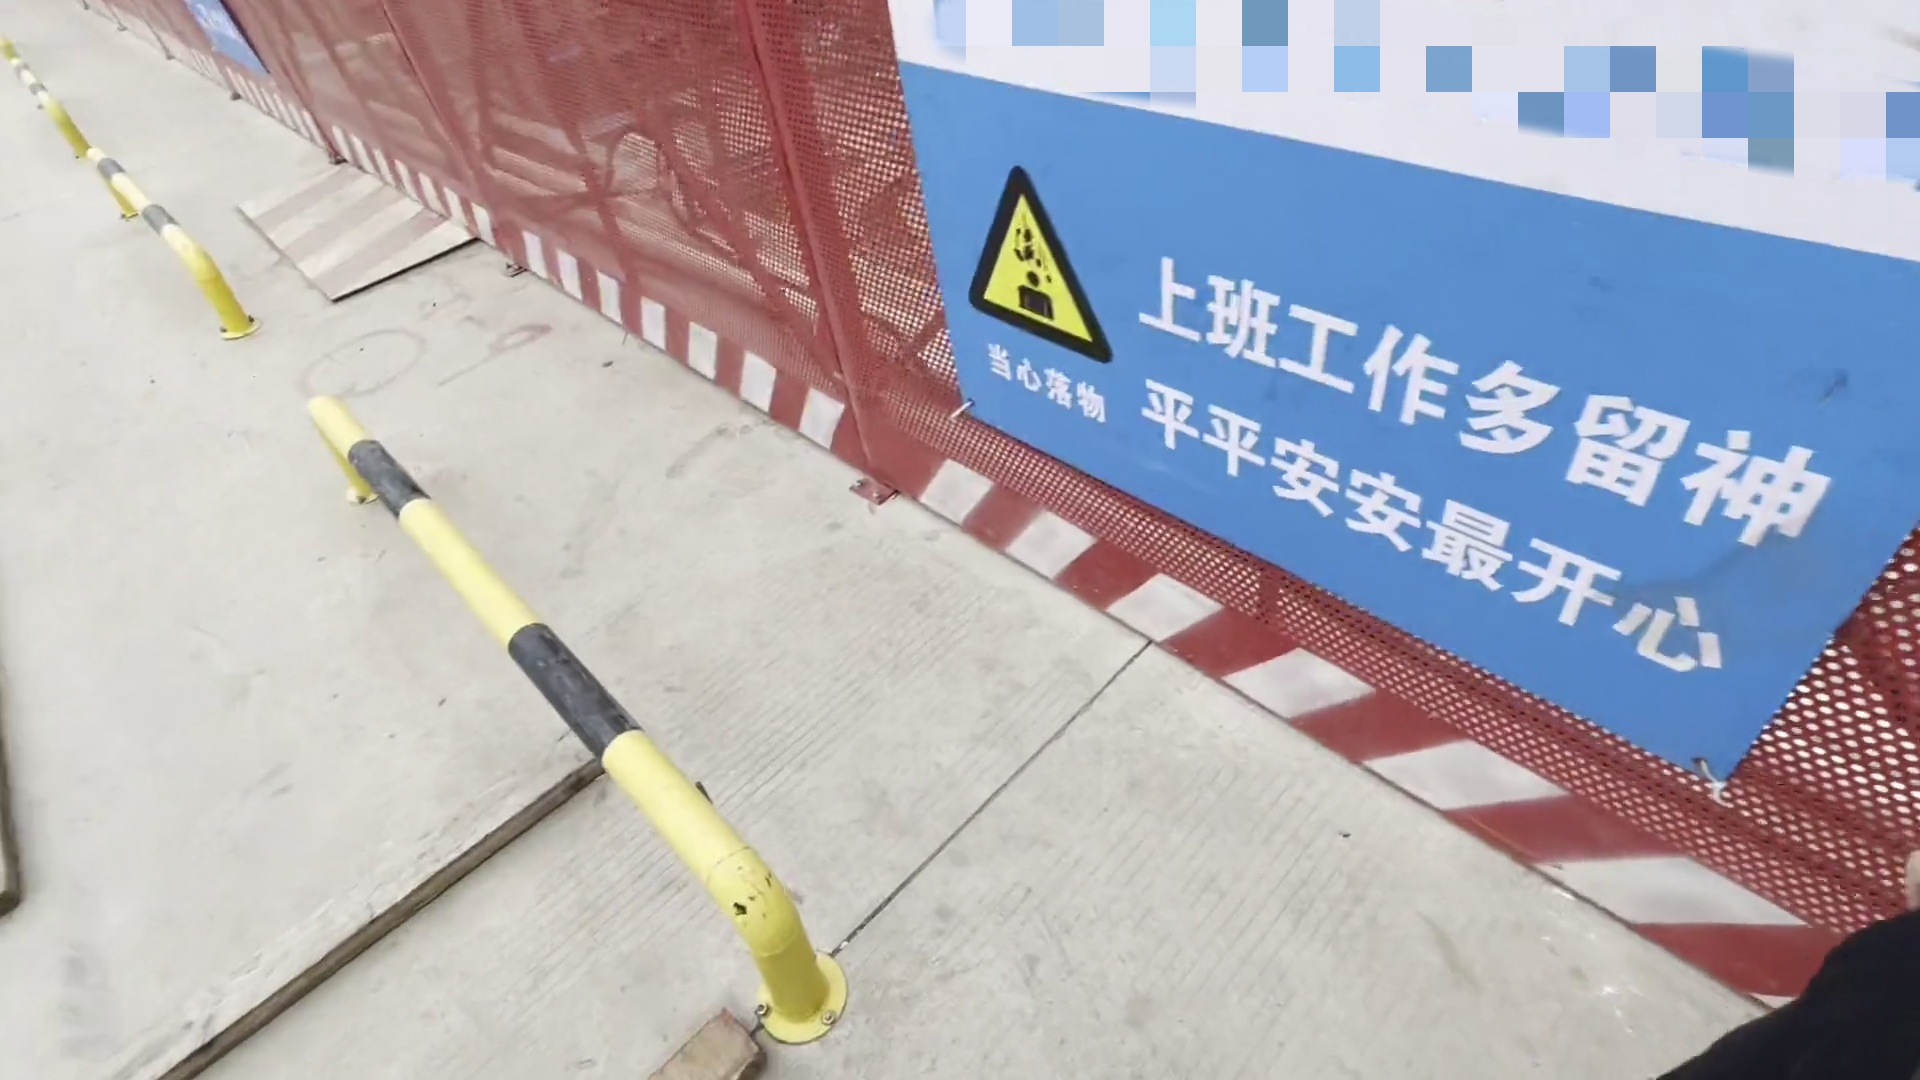fence: (46, 1, 986, 550)
slogan: (930, 127, 1920, 764)
